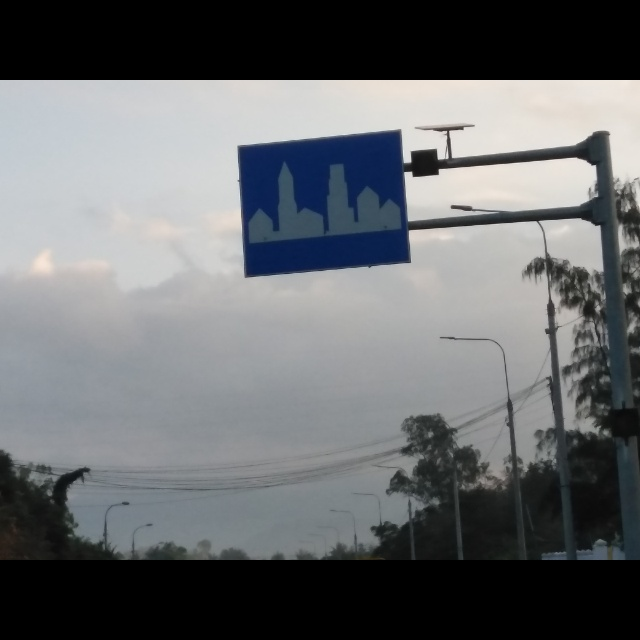Khu đông dân cư: (239, 128, 412, 278)
